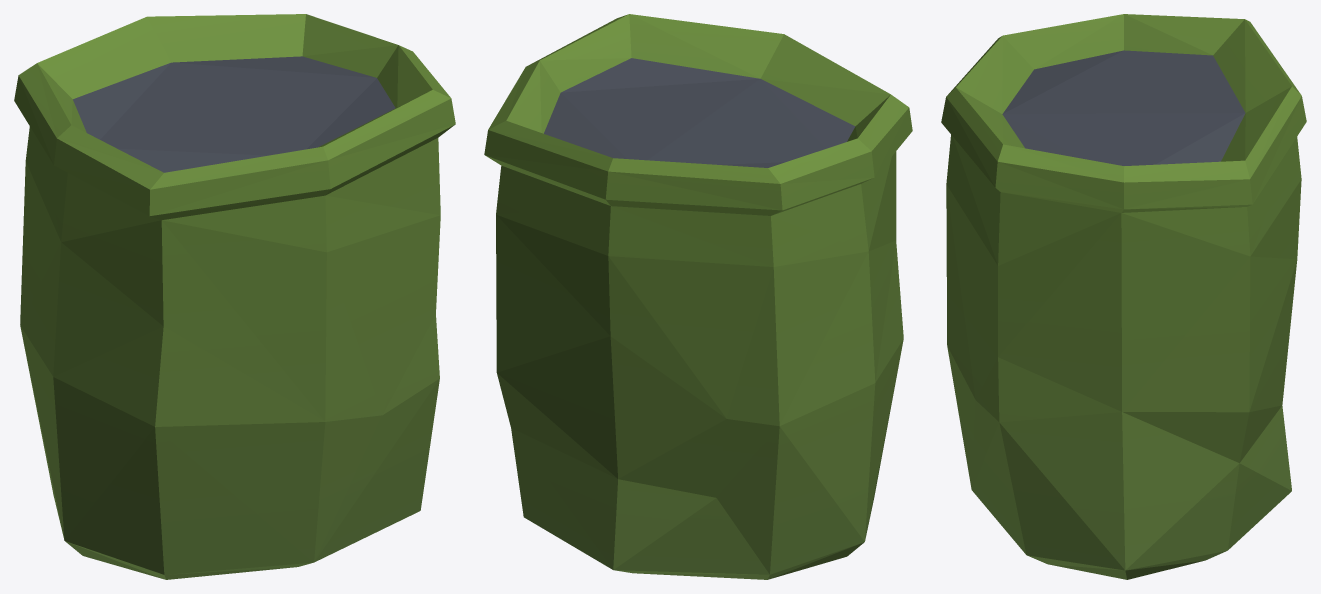
The model's file is Bag_01.fbx.
3 renders of one model, left to right at view 1: azimuth 30°, elevation 25°; view 2: azimuth 150°, elevation 25°; view 3: azimuth 270°, elevation 25°, orthographic. The views are drawn at different scales.
Visible parts, largest first — view 1: Bag_01; view 2: Bag_01; view 3: Bag_01.
Part boxes in pixels (box(x1,y1,x2,y2)): Bag_01: box(14, 14, 455, 579); Bag_01: box(484, 14, 912, 579); Bag_01: box(941, 14, 1306, 579).
Size of the model in its own units: 0.563 by 0.6628 by 0.5149.
